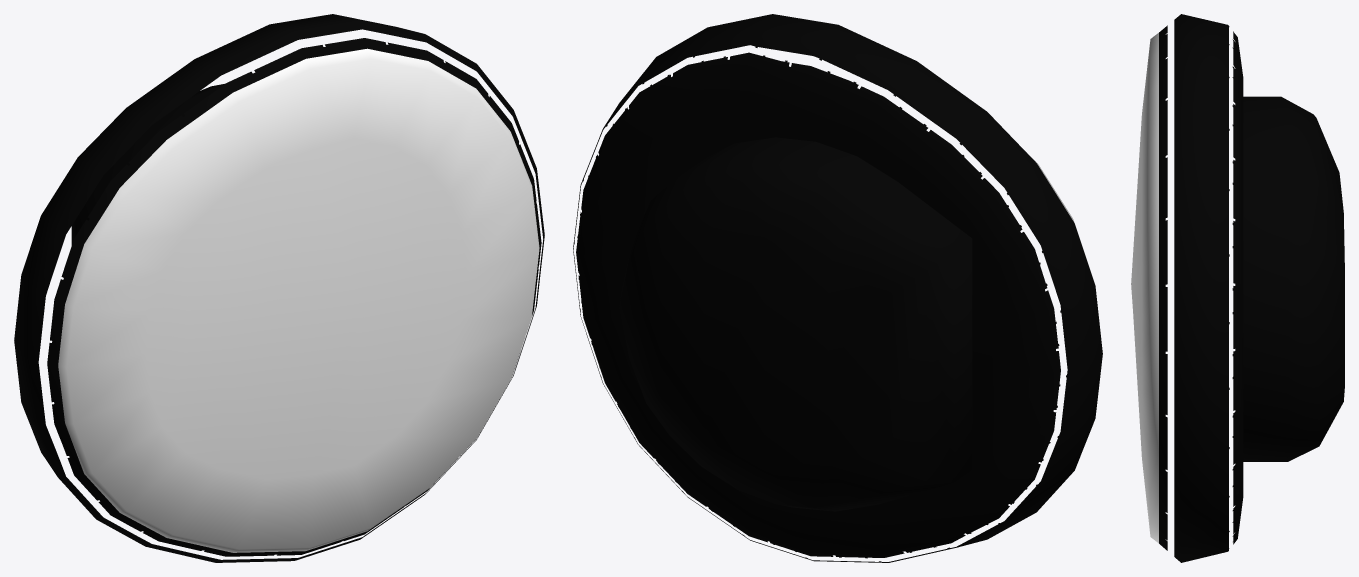
Rendered from box_mitt__box_mitt_L.glb.
3 views of the same model, side by side, from view 1: azimuth 30°, elevation 25°; view 2: azimuth 150°, elevation 25°; view 3: azimuth 270°, elevation 25° (orthographic). The views are drawn at different scales.
Visible parts, largest first — view 1: polygon1, polygon0; view 2: polygon0; view 3: polygon0, polygon1.
Part boxes in pixels (left/top/right/bottom): polygon1: left=58, top=48, right=539, bottom=552; polygon0: left=14, top=14, right=544, bottom=562; polygon0: left=573, top=14, right=1102, bottom=562; polygon0: left=1159, top=14, right=1344, bottom=562; polygon1: left=1131, top=33, right=1158, bottom=543.
Size of the model in its own units: 3.83 by 3.76 by 1.46.
Materials: 2 (1 with a texture image).
